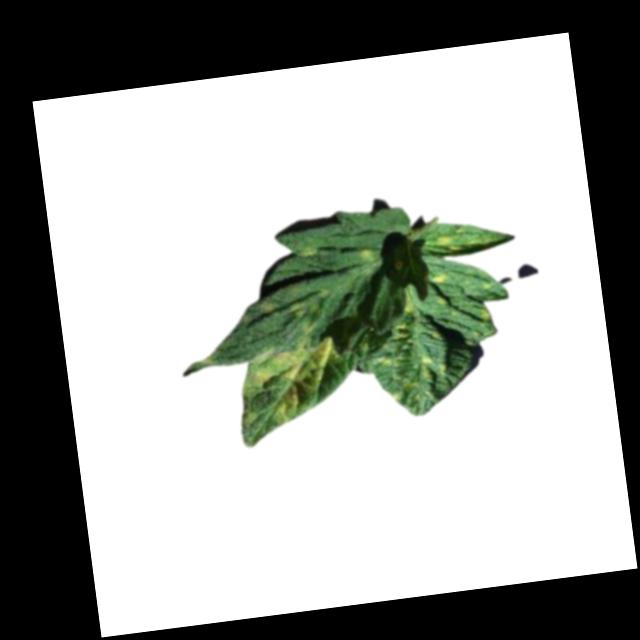Leaf_Mold: (236, 334, 346, 429), (371, 296, 456, 407), (257, 289, 337, 342), (434, 228, 465, 257), (359, 246, 373, 270), (432, 271, 451, 286)
